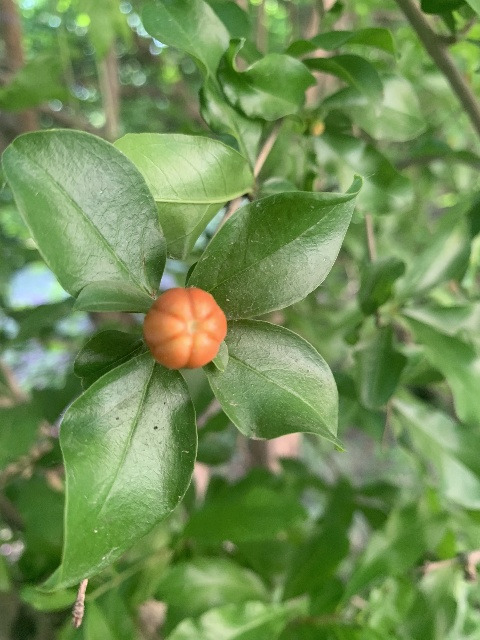bud: (143, 286, 226, 370)
